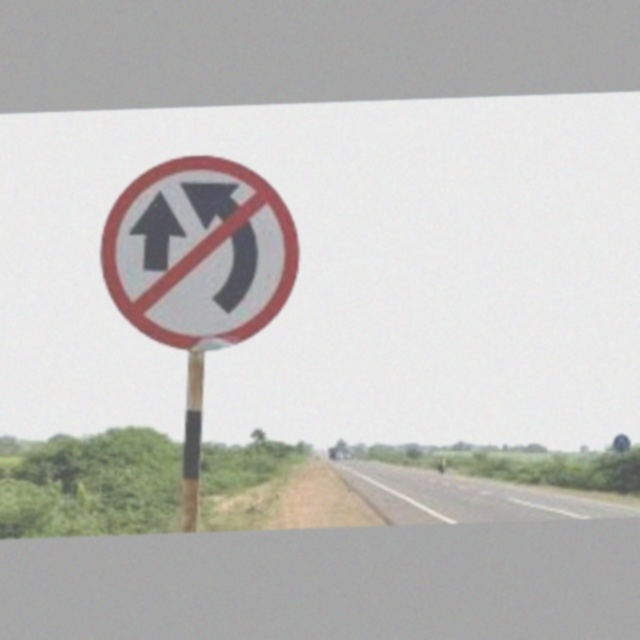Overtaking_Prohibited: (108, 154, 296, 348)
